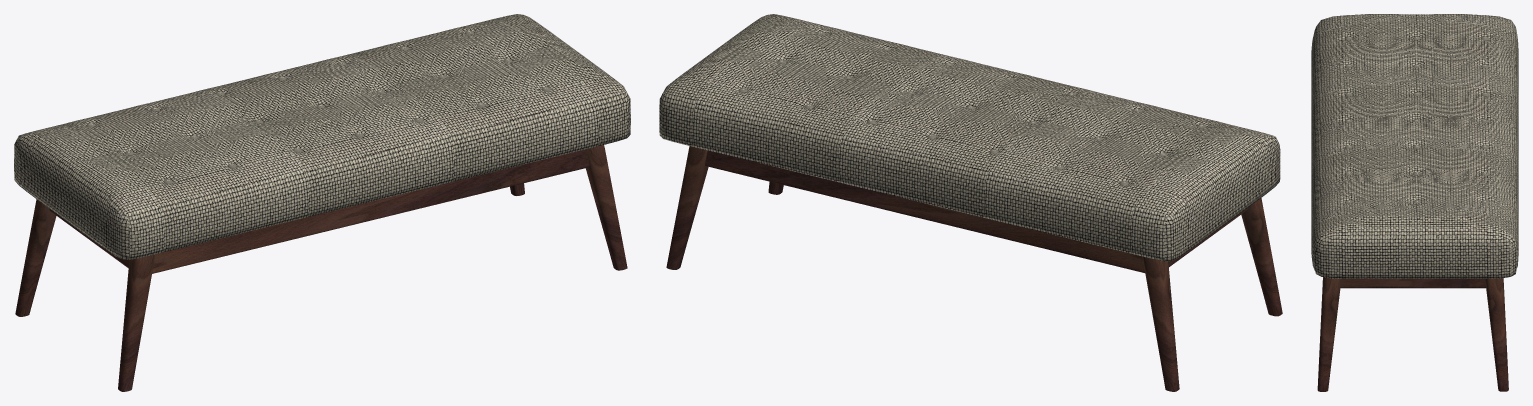
Rendered from CGT_Bench_17_001.glb.
The picture shows the model from 3 angles, left to right: view 1: azimuth 30°, elevation 25°; view 2: azimuth 150°, elevation 25°; view 3: azimuth 270°, elevation 25°; orthographic projection. The views are drawn at different scales.
Parts seen in each view (by area): view 1: CGT_Bench_17_001; view 2: CGT_Bench_17_001; view 3: CGT_Bench_17_001.
Part boxes in pixels (left/top/right/bottom): CGT_Bench_17_001: left=14, top=14, right=630, bottom=391; CGT_Bench_17_001: left=659, top=14, right=1282, bottom=391; CGT_Bench_17_001: left=1311, top=14, right=1518, bottom=391.
Size of the model in its own units: 1.46 by 0.5108 by 0.5728.
Materials: 2 (2 with a texture image).
